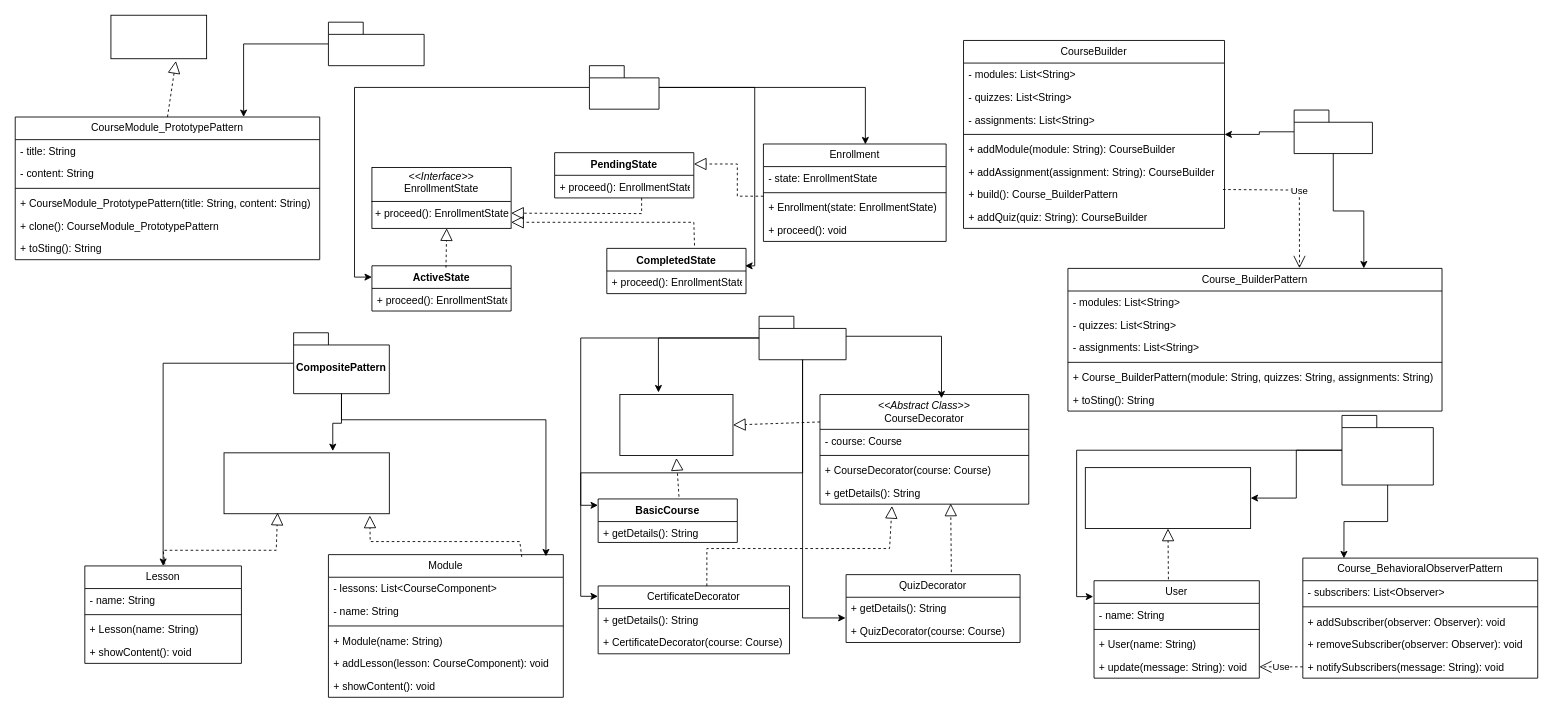
Some shapes in this 1553 by 715 pixel diagram are drawn without their labels. The centre of each missing label's shape, as x and y in pixels:
"<<Abstract Class>> CourseComponent + showContent(): void" belongs at (x=306, y=483).
"<<Interface>> Course + getDetails(): String" belongs at (x=676, y=424).
"<<Interface>> Observer + update(message: String):void" belongs at (x=1167, y=498).
"BuilderPattern" belongs at (x=1332, y=131).
"DecoratorPattern" belongs at (x=802, y=337).
"ObserverPattern" belongs at (x=1387, y=450).
"PrototypePattern" belongs at (x=376, y=43).
"StatePattern" belongs at (x=624, y=87).
"«interface» Cloneable" belongs at (x=158, y=36).
